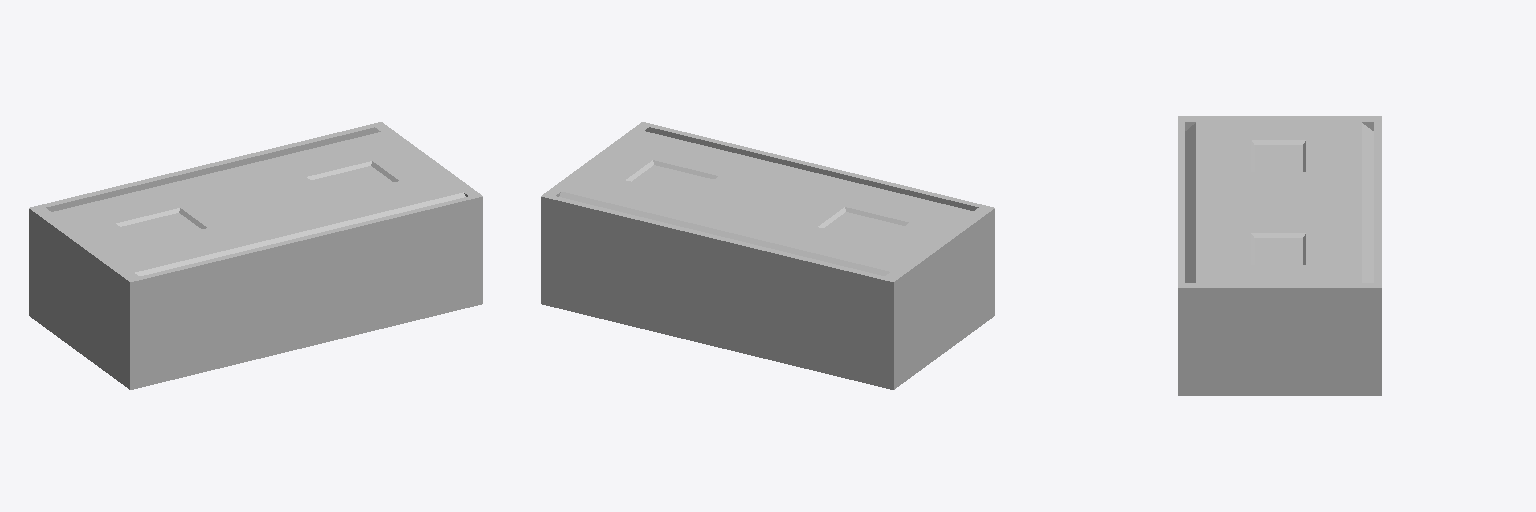
Rendered from PodRoom.obj.
3 renders of one model, left to right at view 1: azimuth 30°, elevation 25°; view 2: azimuth 150°, elevation 25°; view 3: azimuth 270°, elevation 25°, orthographic.
Visible parts, largest first — view 1: PodRoom_Room_PodRoom; view 2: PodRoom_Room_PodRoom; view 3: PodRoom_Room_PodRoom.
Part boxes in pixels (x1,y1,x2,y2): PodRoom_Room_PodRoom: (29,122,482,389); PodRoom_Room_PodRoom: (541,122,994,389); PodRoom_Room_PodRoom: (1178,116,1381,395).
Size of the model in its own units: 12 by 3.5 by 6.